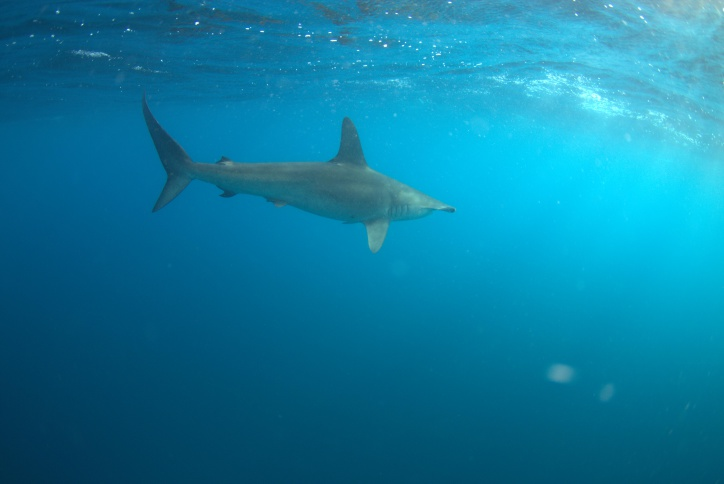Hammer: (115, 90, 492, 268)
